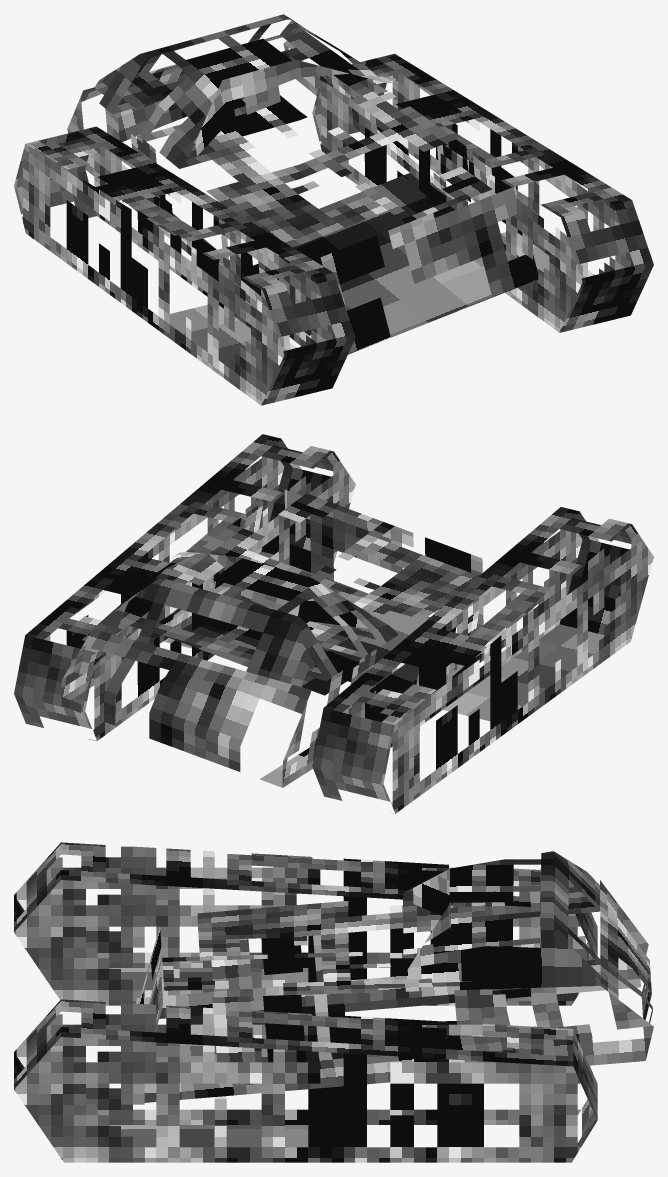
File: vedette_wreck.glb
3 renders of one model, top to bottom at view 1: azimuth 30°, elevation 25°; view 2: azimuth 150°, elevation 25°; view 3: azimuth 270°, elevation 25°, orthographic. The views are drawn at different scales.
Visible parts, largest first — view 1: VedetteDam; view 2: VedetteDam; view 3: VedetteDam.
Boxes of the visible parts, x1,y1,x2,y2 form: VedetteDam: [14, 14, 653, 405]; VedetteDam: [14, 434, 653, 813]; VedetteDam: [14, 842, 653, 1162].
Bounding box in the file's own units: 4.79 × 2.1 × 6.66.
Materials: 1 (1 with a texture image).
